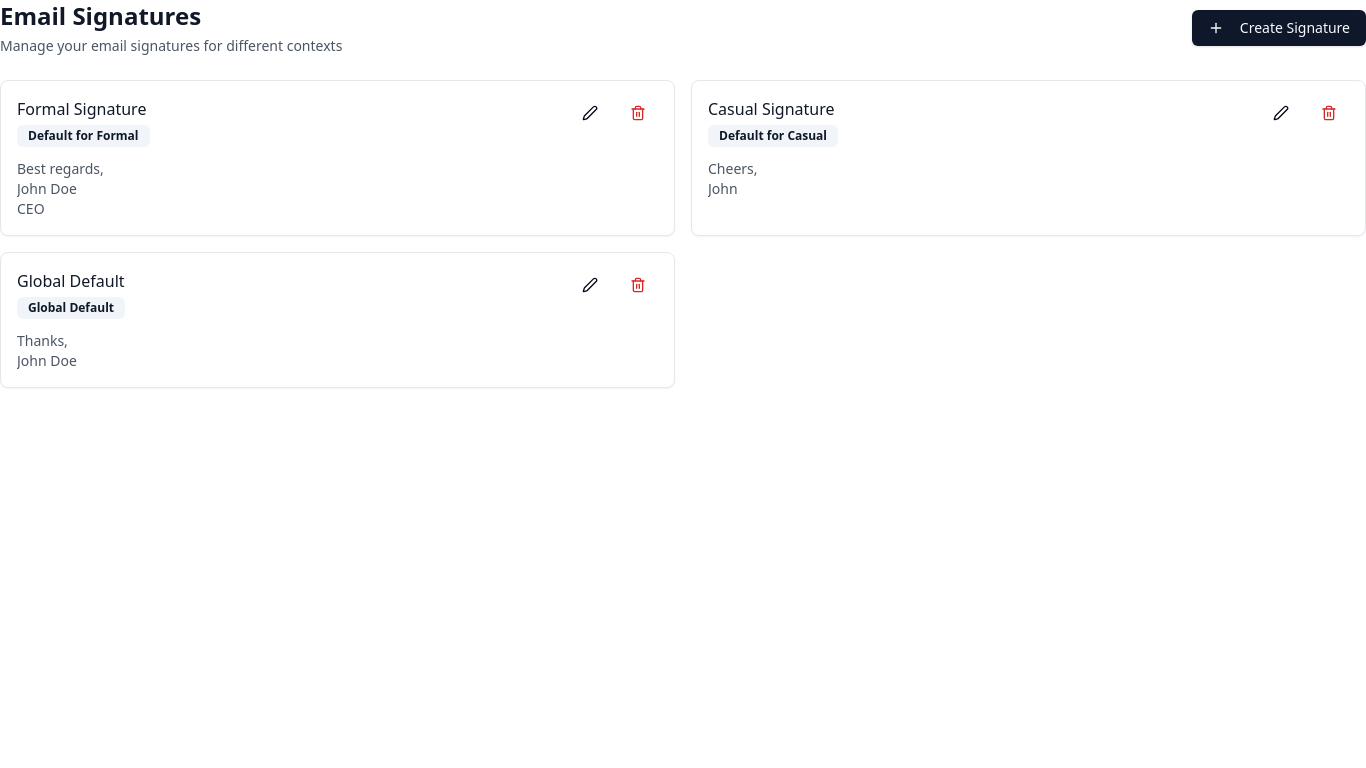
Test: SignatureManager › delete signature › shows confirmation dialog when delete button is clicked
This screenshot has width=1366, height=768.
Step 1. Click the button named "delete" → (638, 113), box [618,97,658,129]
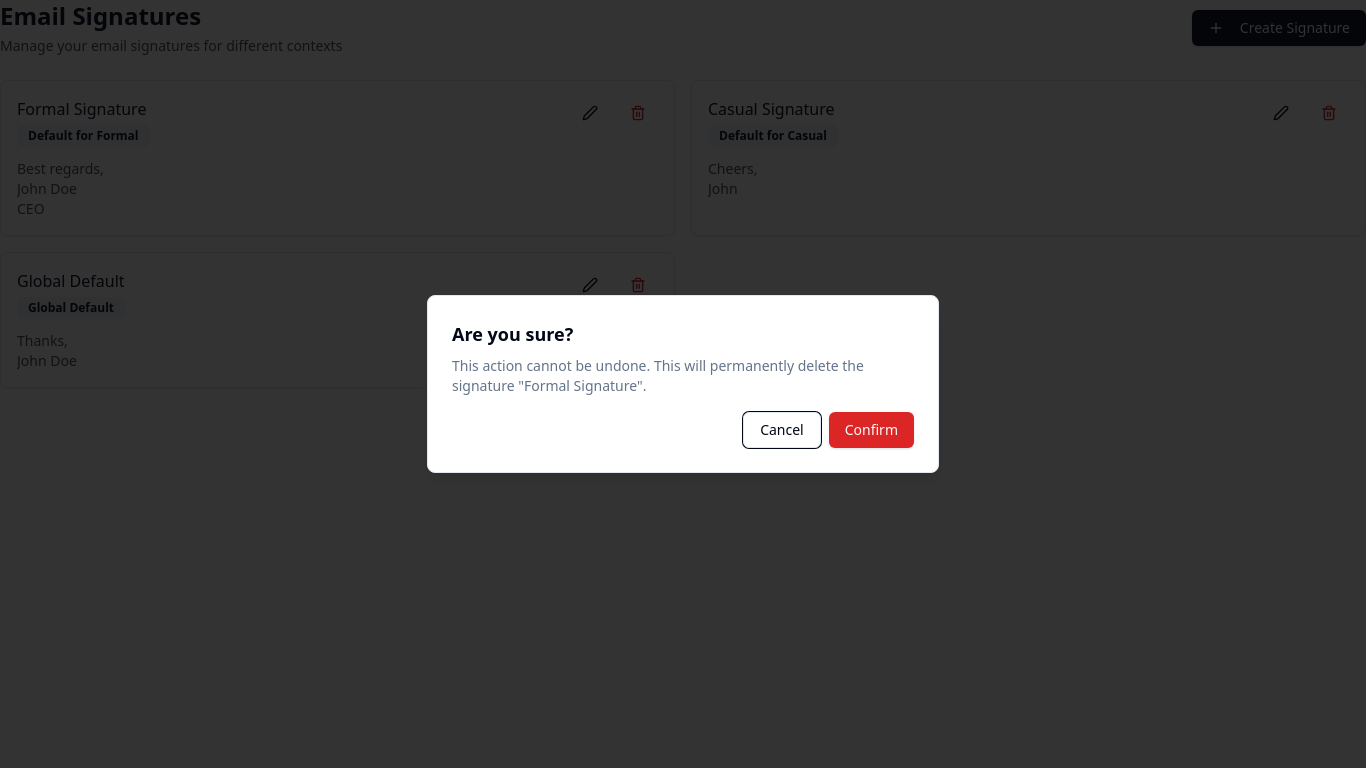
Check: the heading "Are you sure?" is shown, box [452,322,573,346]
Check: the text "This action cannot be undone" is shown, box [452,356,864,395]
